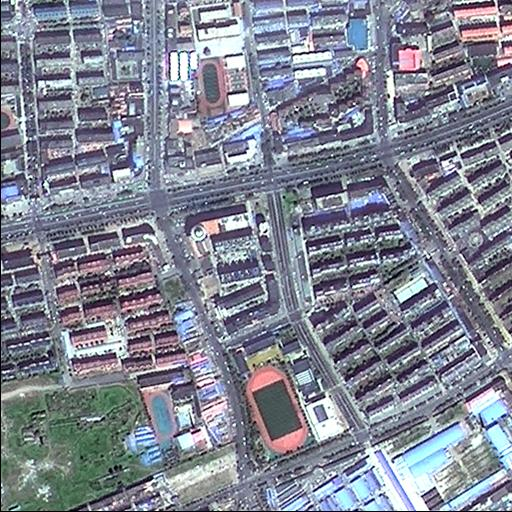school: (226, 318, 355, 468), (189, 1, 256, 123), (135, 365, 201, 450)
